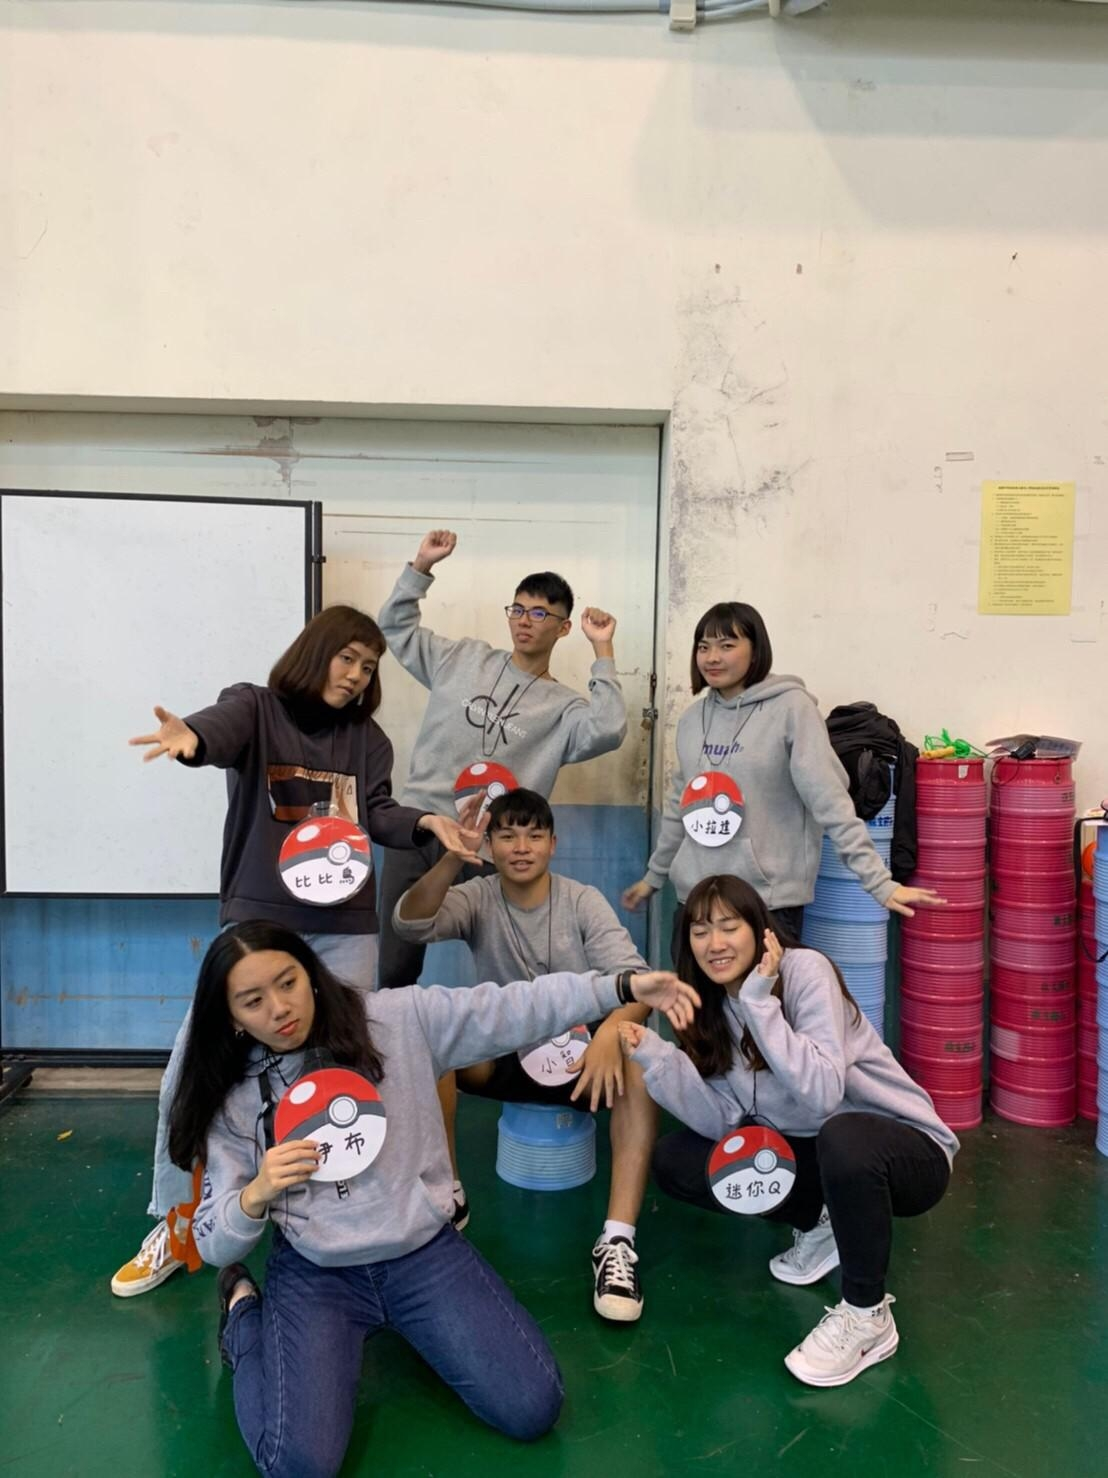people: (183, 940, 583, 1454), (662, 895, 957, 1390), (452, 776, 683, 1304), (652, 590, 893, 943), (205, 604, 419, 997), (402, 559, 597, 828)
